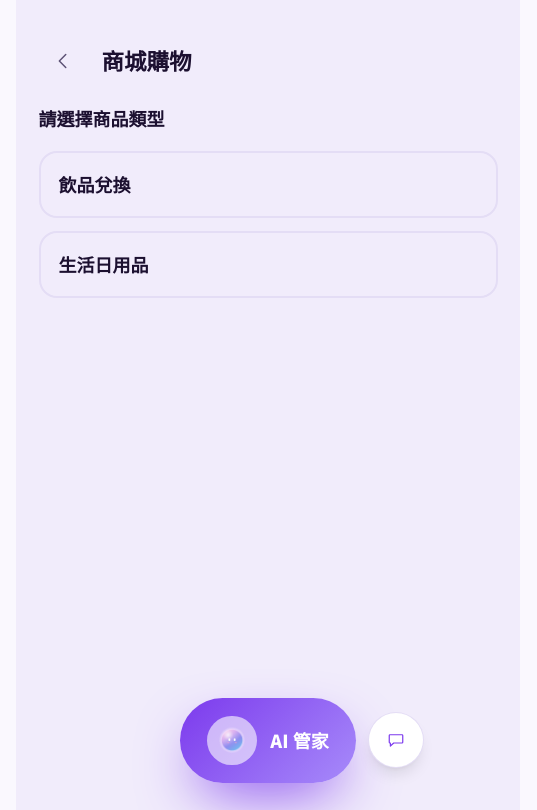
Test: ShopFlowPage › combines identical products from different vendors into one comparison card
Click the button "飲品兌換": click(94, 184) [38,151,498,218]
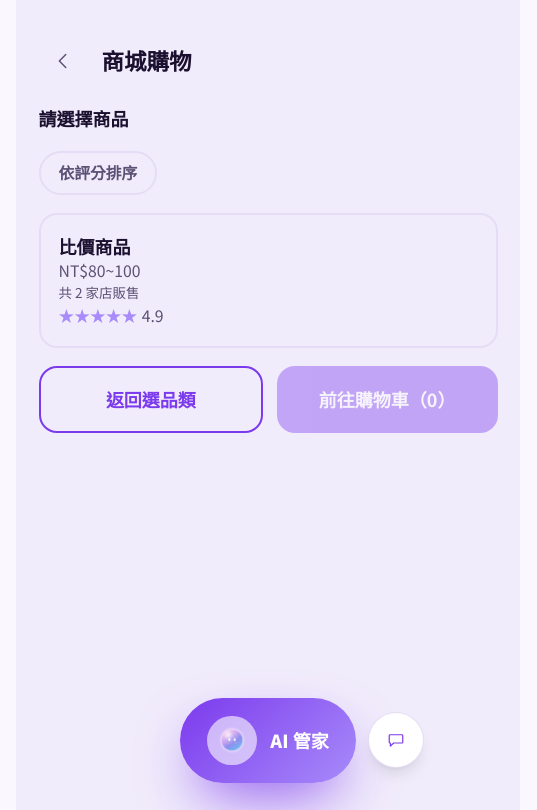
Result: the text "比價商品" is shown at [58,233,130,259]
Result: the text "NT$80~100" is shown at [58,259,140,282]
Result: the text "共 2 家店販售" is shown at [58,282,140,302]
